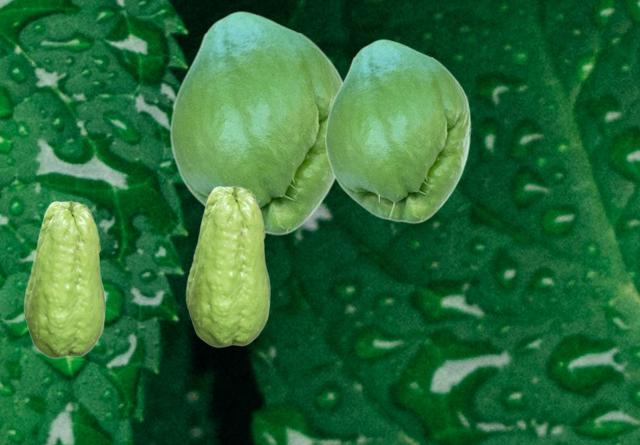sayote: (169, 11, 342, 235), (324, 39, 470, 223), (185, 185, 270, 347), (23, 200, 105, 358)
